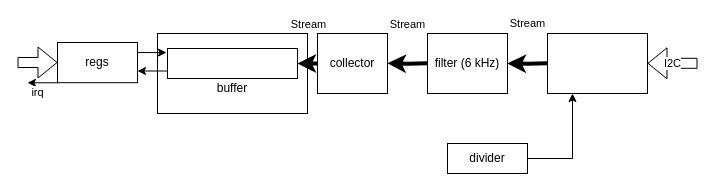
Image size: 714x191. Some labels were removed from this diagram. The box of each missing label's shape, as (x1, y1, x2, y2) in pixels:
FIFO (64 words): (166, 48, 298, 78)
recv: (546, 32, 648, 94)
